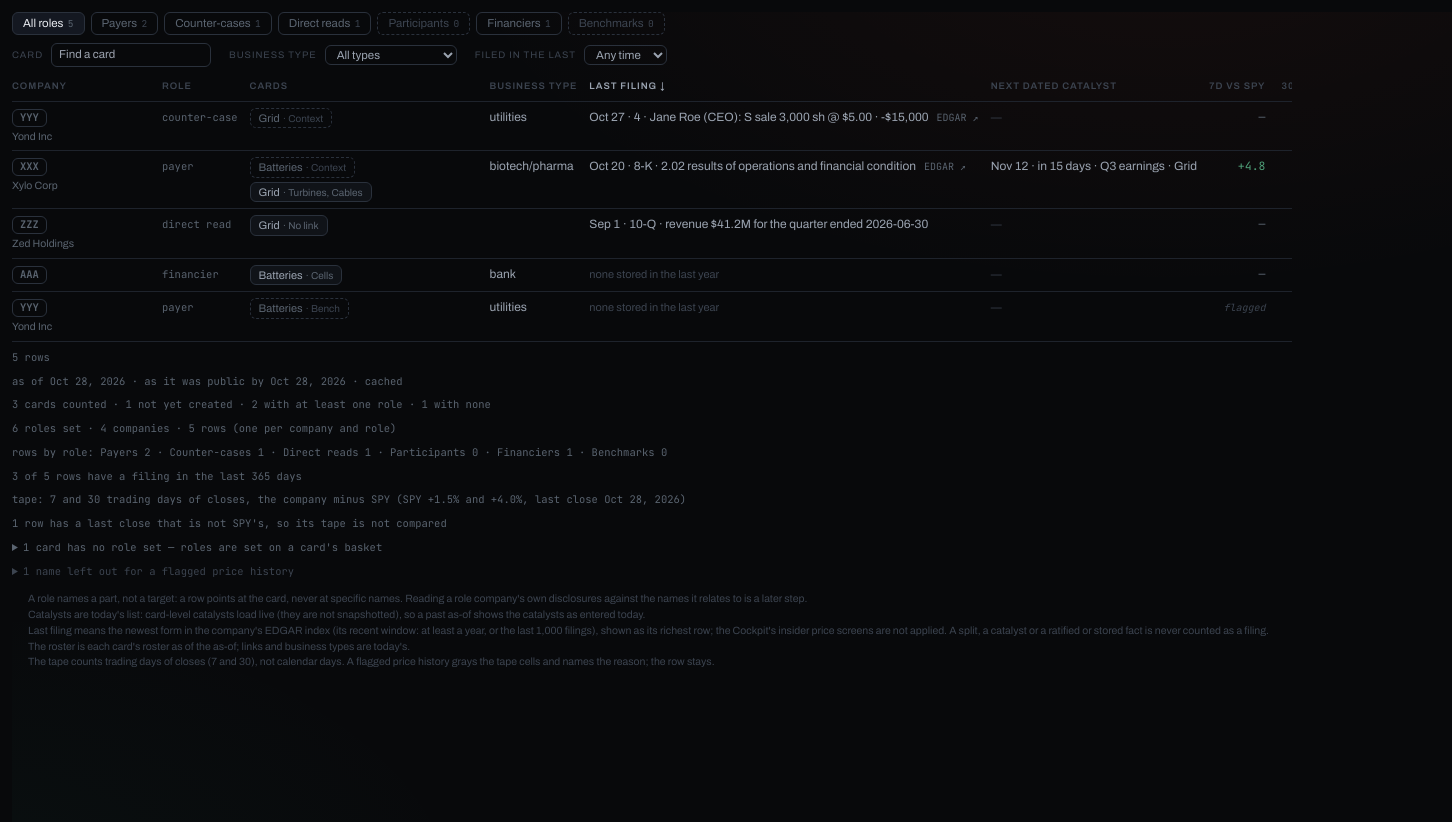
Test case: ReadThrough — the filters › filters by a card name (a type-ahead), and its tab counts follow
Type "batt" into the search field named "Find a card" at (131, 55), box [51,43,211,67]
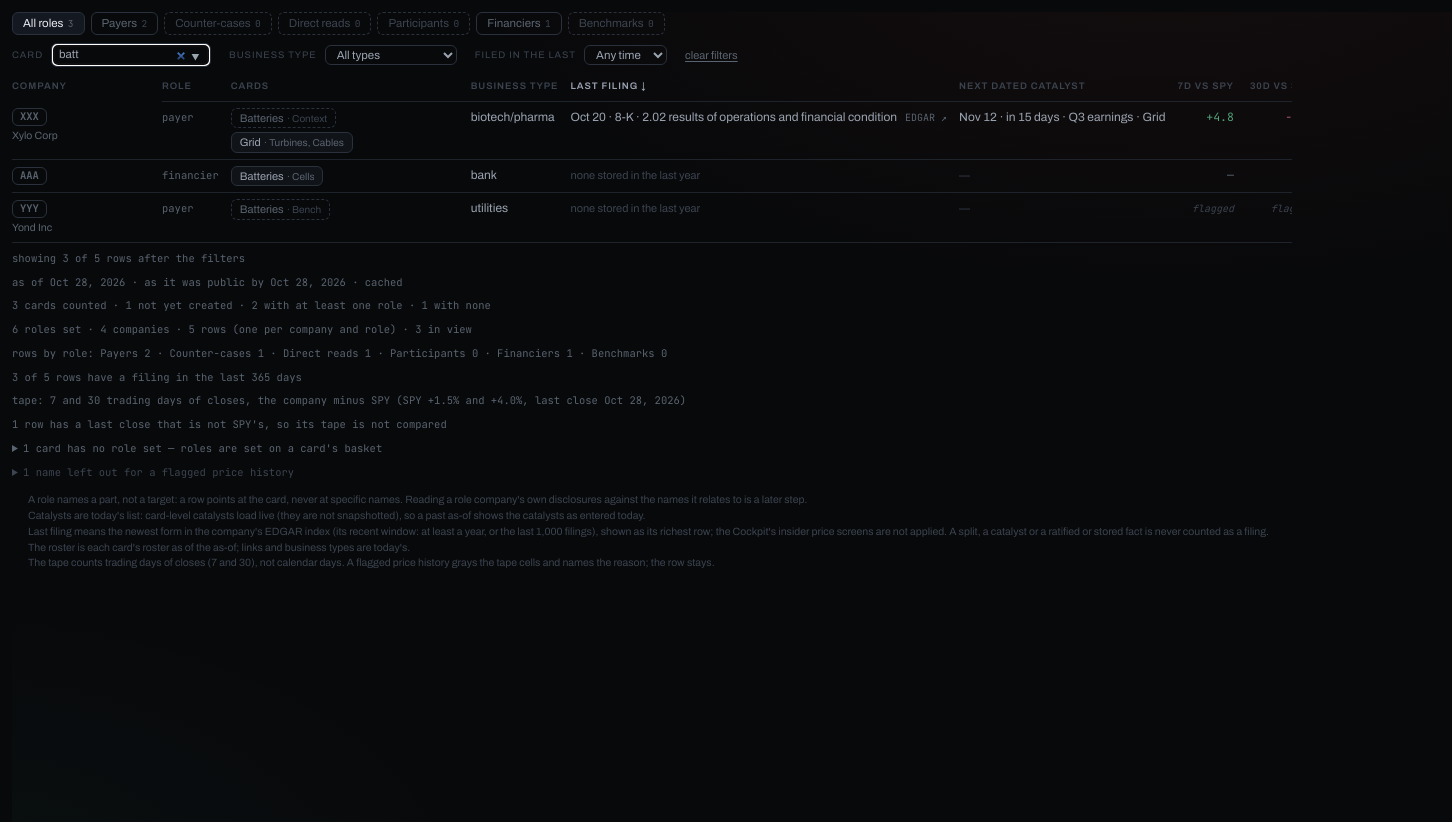
expect the tab "All roles 3" is shown: met, box [12,12,84,35]
expect the tab "Counter-cases 0" is shown: met, box [164,12,272,35]
Click the button "clear filters" at (711, 55), box [685,47,738,63]
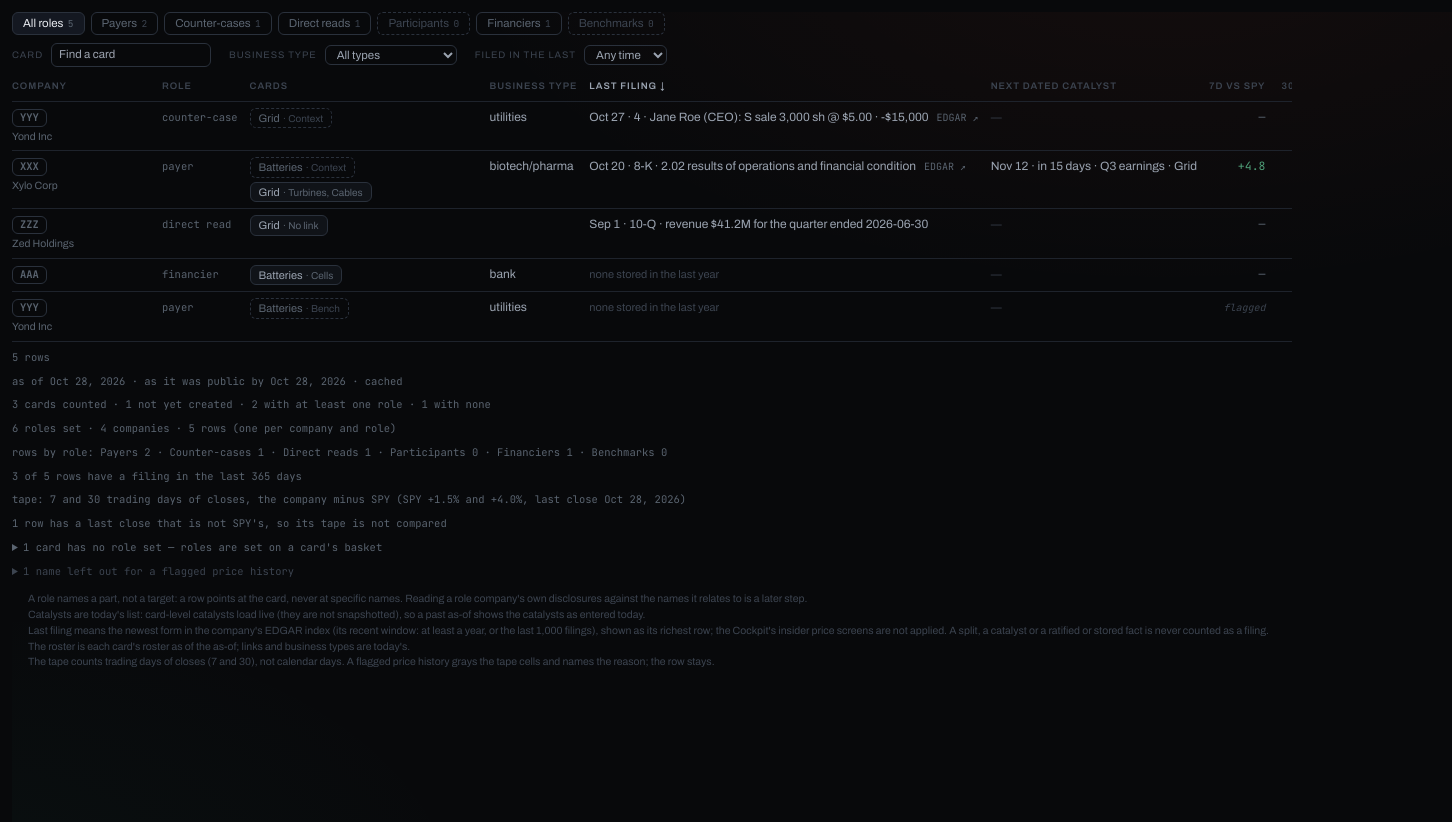
expect the number of rows with test id "rt-row" is 5: met, box [12,101,1292,151]; [12,151,1292,209]; [12,209,1292,258]; [12,258,1292,292]; [12,292,1292,341]
expect the button "clear filters" is gone: met
